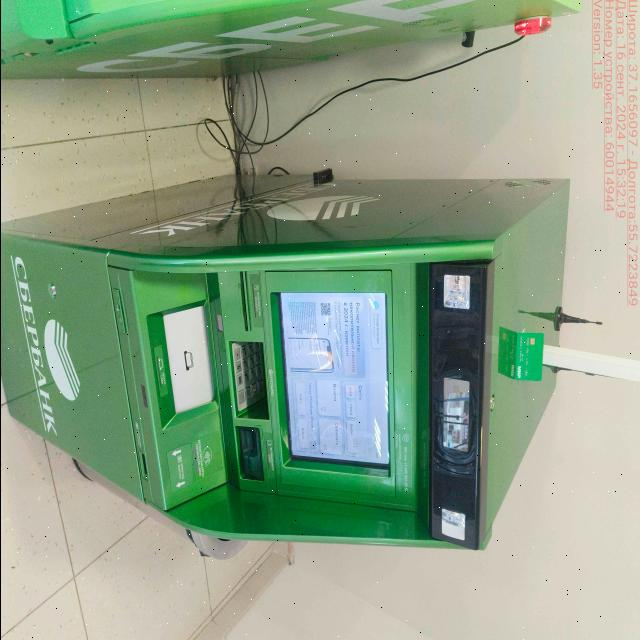bank: (0, 176, 567, 546), (0, 0, 573, 90)
